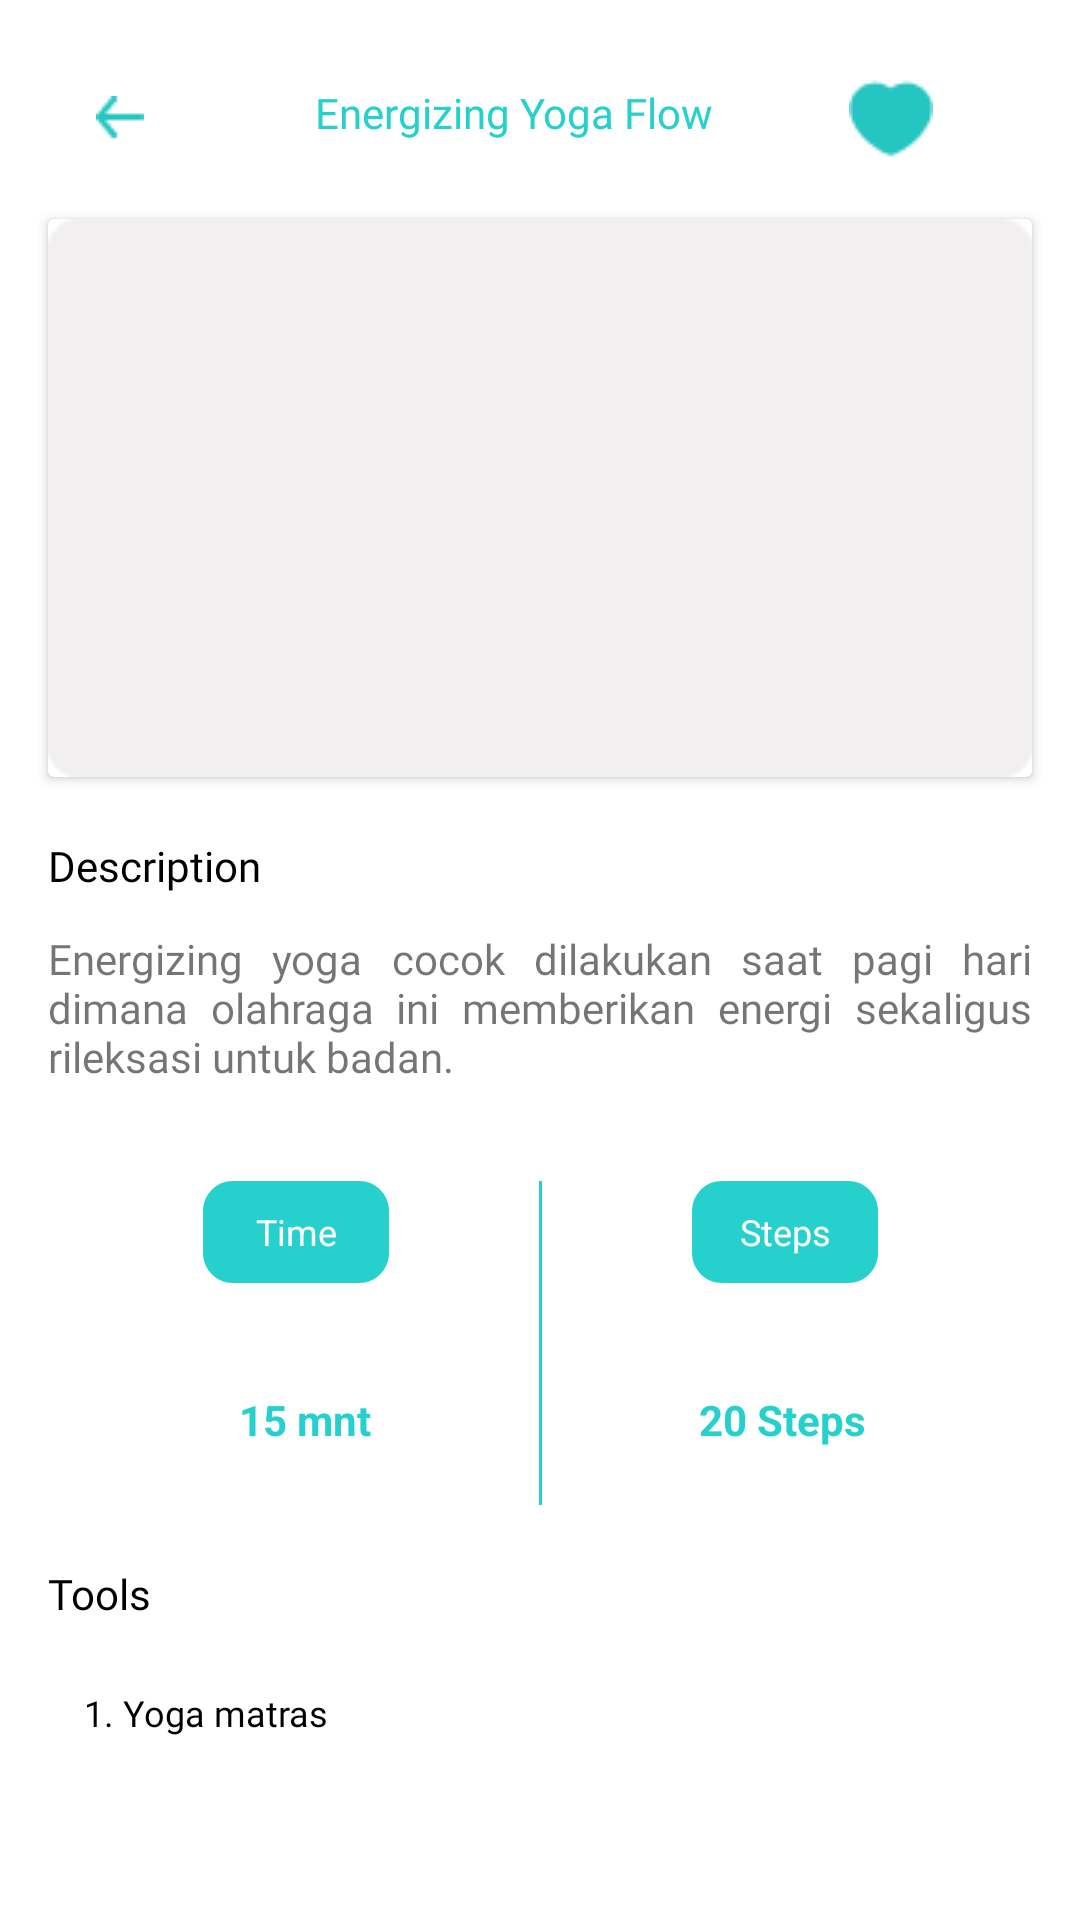

Named icons in this screenshot (1080x1920) and their bounding boxes, (x1, y1, x2, y2):
backgreen vektor: (96, 96, 144, 139)
favoritegreen ikon: (849, 80, 933, 157)
